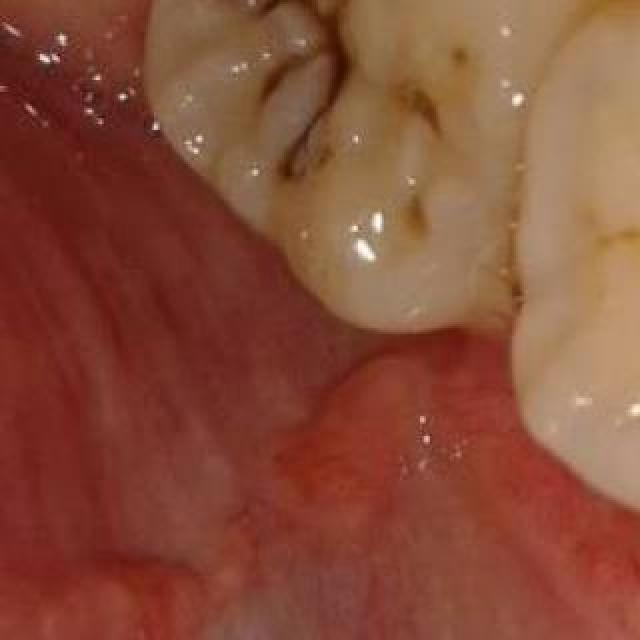cavities: (156, 0, 562, 314)
